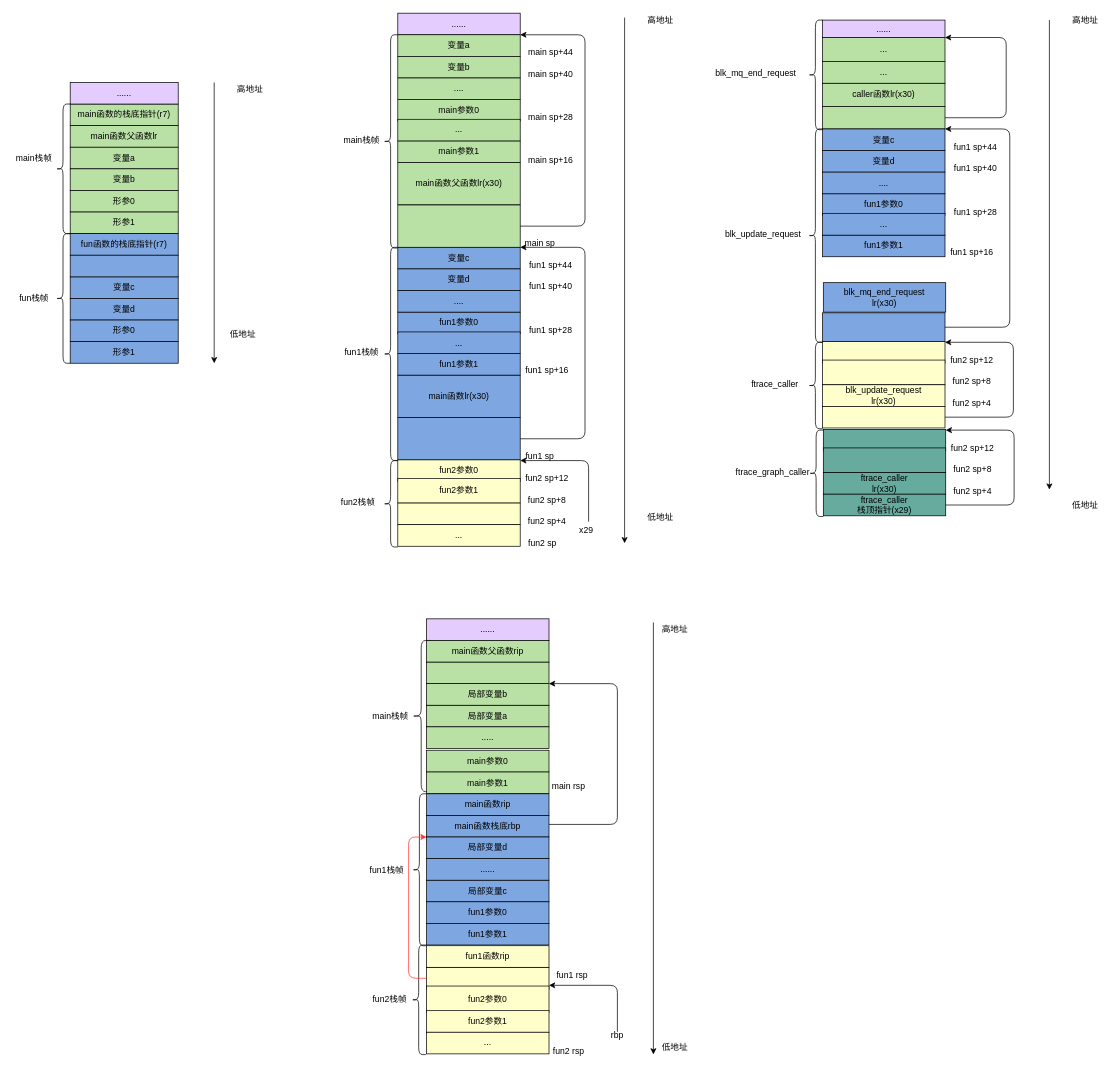
This 1112x1073 diagram has some shape labels left out. The centre of each missing label's shape, as x and y in pixels:
"blk_mq_end_request 栈顶指针(x29)" goes at [883,327].
"blk_update_request 栈顶指针(x29)" goes at [883,417].
"caller函数栈顶指针(x29)" goes at [883,117].
"fun1函数栈底rbp" goes at [487,978].
"main函数栈顶指针(x29)" goes at [458,438].
"main函数父函数栈底rbp" goes at [487,672].
"main函数父函数栈顶指针(x29)" goes at [458,225].
